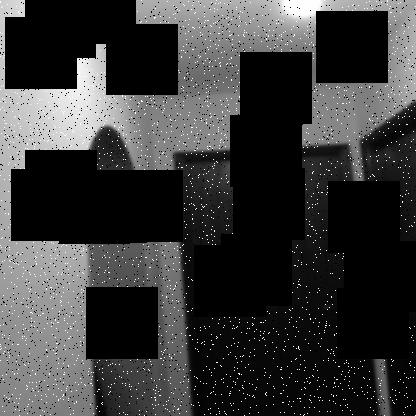Porte: (170, 141, 383, 415)
